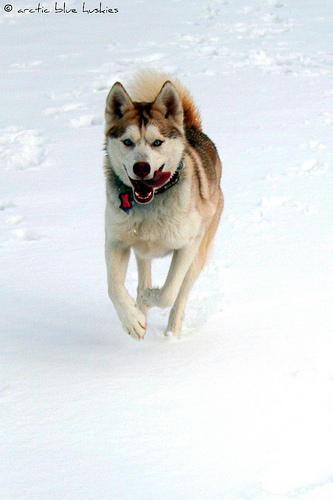dog: (103, 78, 224, 342)
